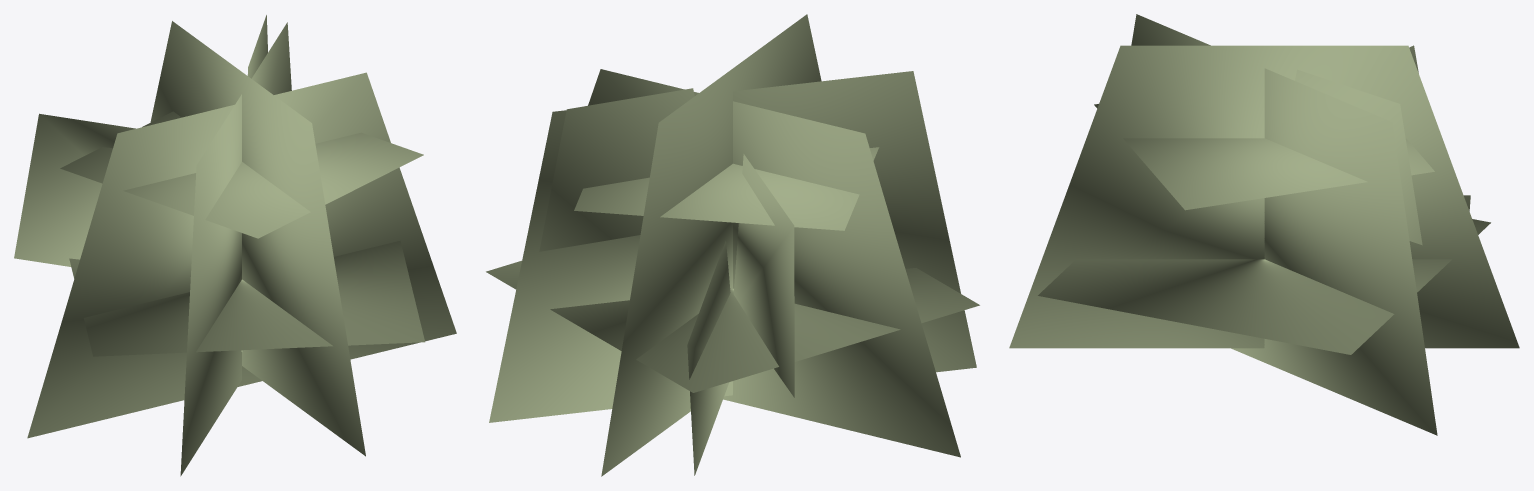
File: park-canopy-two-unit.glb
3 renders of one model, left to right at view 1: azimuth 30°, elevation 25°; view 2: azimuth 150°, elevation 25°; view 3: azimuth 270°, elevation 25°, orthographic. The views are drawn at different scales.
Visible parts, largest first — view 1: Park-canopy-two-unitBody; view 2: Park-canopy-two-unitBody; view 3: Park-canopy-two-unitBody.
Part boxes in pixels (x1,y1,x2,y2): Park-canopy-two-unitBody: (14,15,456,476); Park-canopy-two-unitBody: (486,14,979,476); Park-canopy-two-unitBody: (1009,14,1519,435).
Size of the model in its own units: 5.23 by 3.65 by 5.23.
